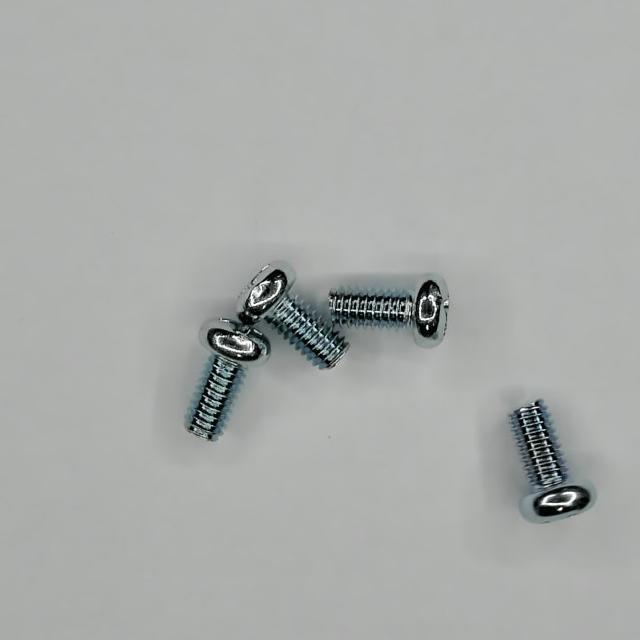Screw: (239, 264, 349, 368), (185, 319, 271, 442), (511, 400, 596, 524), (329, 275, 450, 348)
